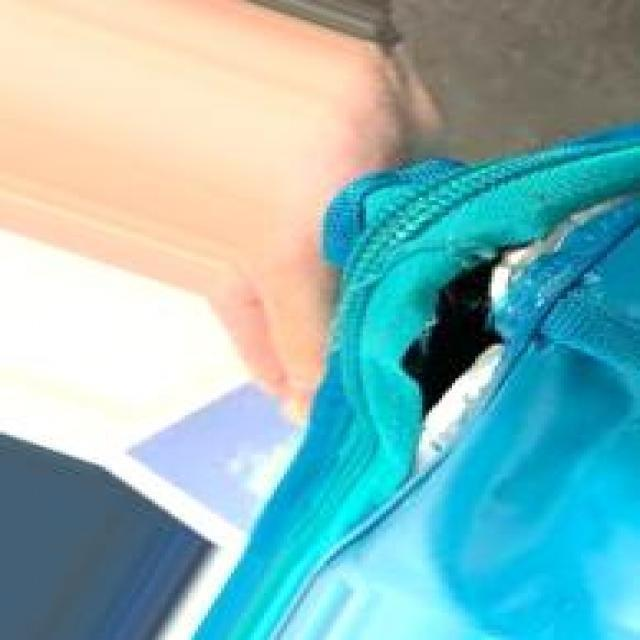Suitcase: (189, 111, 640, 640)
